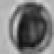correct: (5, 0, 54, 54)
